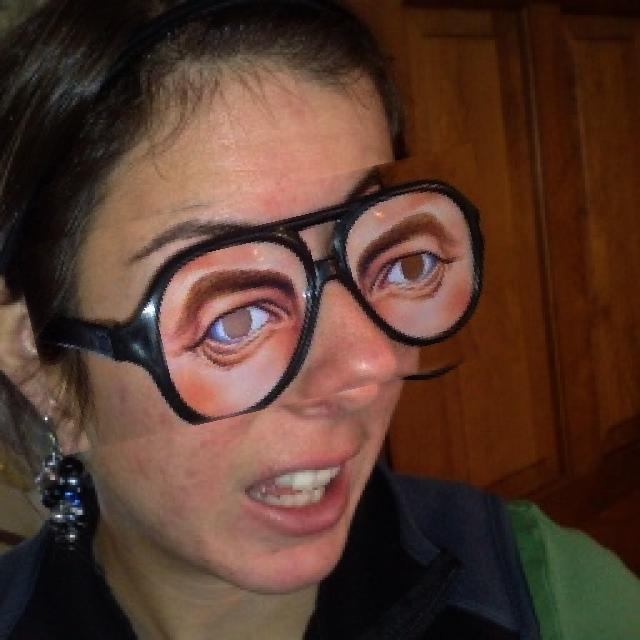glasses: (22, 168, 510, 431)
